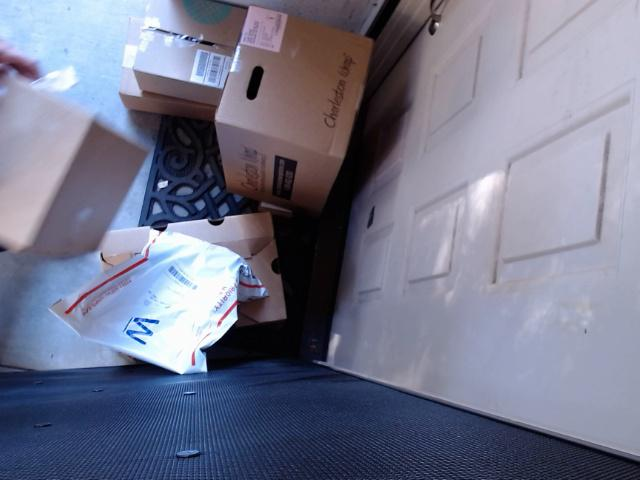box: (215, 0, 382, 226), (0, 65, 149, 259), (101, 210, 308, 323), (112, 0, 248, 126)
plastic_bag: (49, 242, 270, 370)
